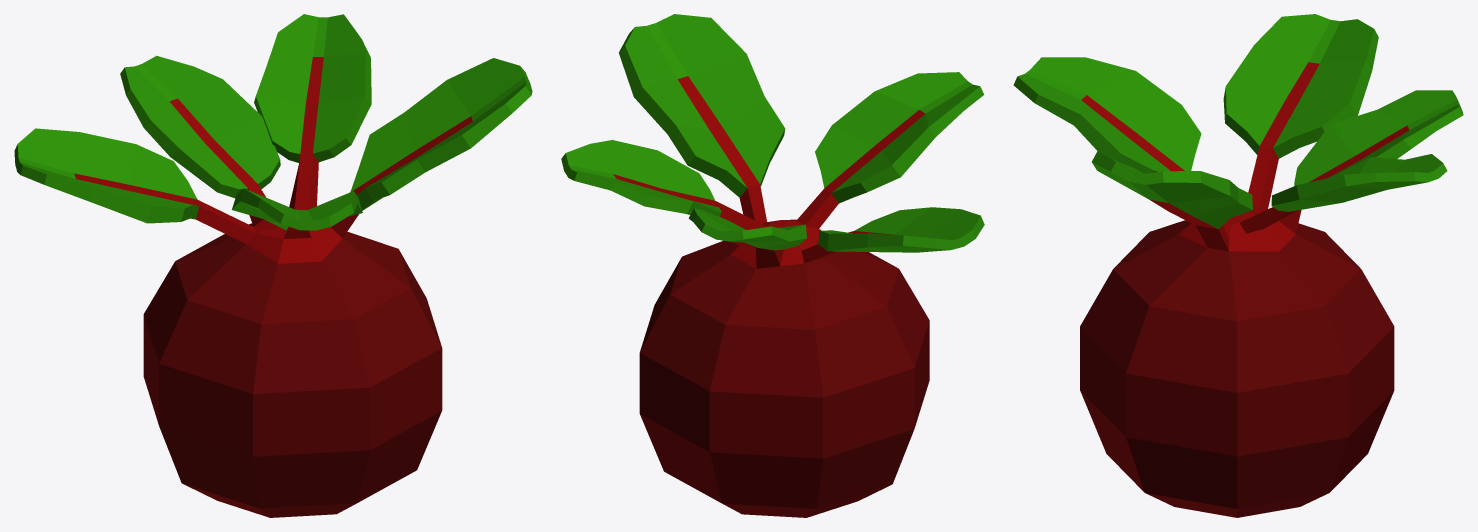
Rendered from beetroot01.gltf.
3 views of the same model, side by side, from view 1: azimuth 30°, elevation 25°; view 2: azimuth 150°, elevation 25°; view 3: azimuth 270°, elevation 25° (orthographic). The views are drawn at different scales.
Parts seen in each view (by area): view 1: Cylinder; view 2: Cylinder; view 3: Cylinder.
Part boxes in pixels (x1,y1,x2,y2): Cylinder: (14,14,532,517); Cylinder: (561,14,984,517); Cylinder: (1013,14,1463,517).
Size of the model in its own units: 0.1092 by 0.1008 by 0.097.
1 material, 1 textured.
